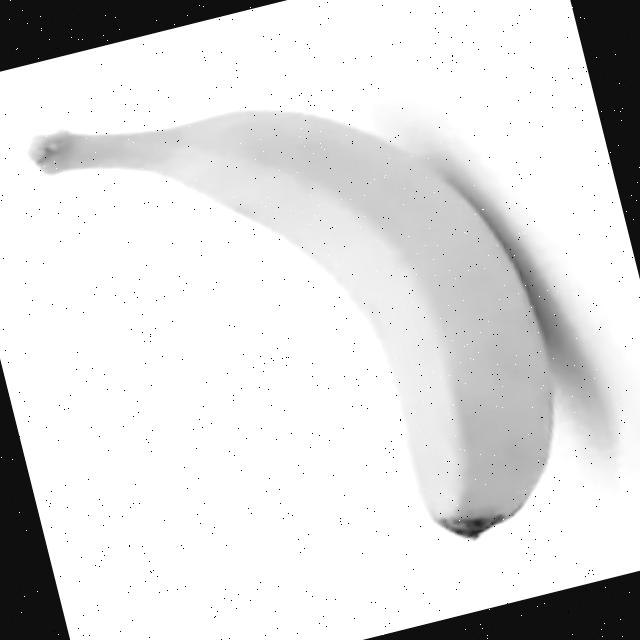Ripe: (23, 42, 592, 624)
